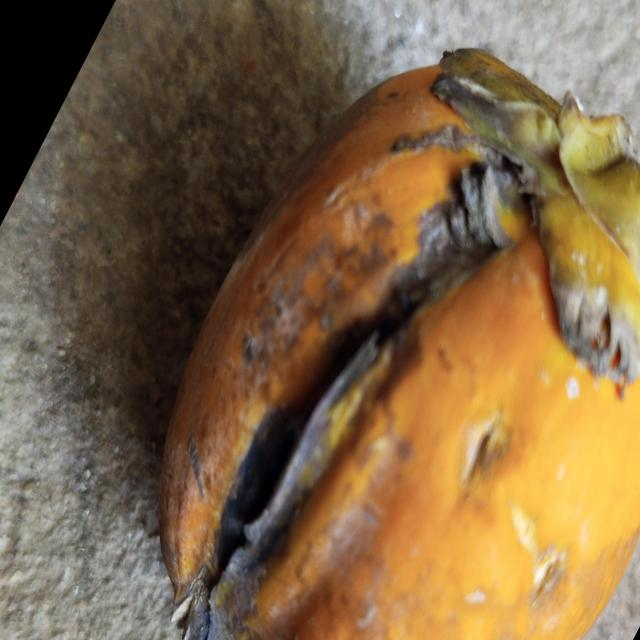damaged: (160, 50, 640, 640)
